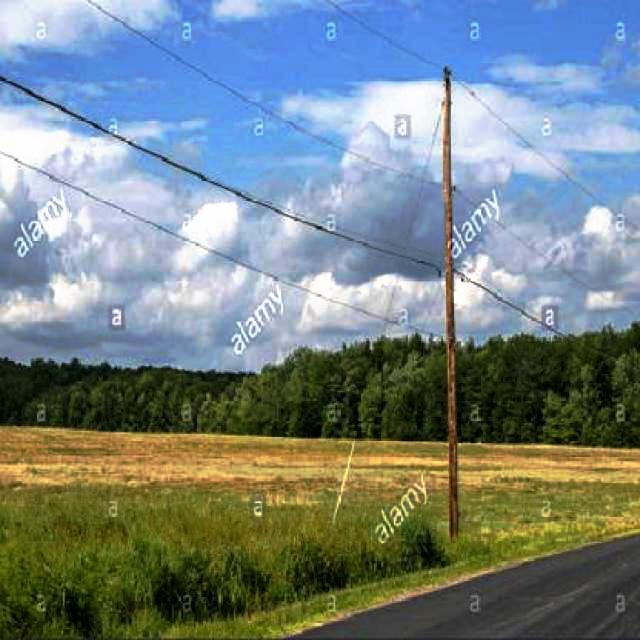poles: (382, 52, 496, 526)
wires: (3, 68, 439, 275), (461, 271, 639, 379)
